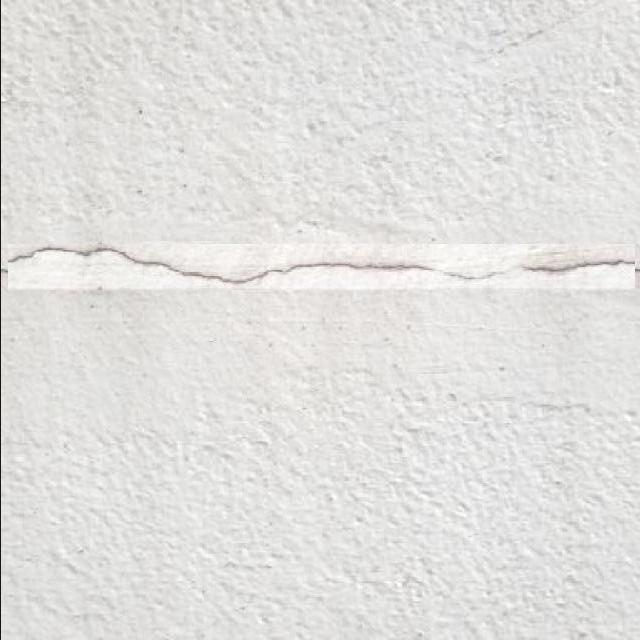Crack: (3, 240, 639, 289)
